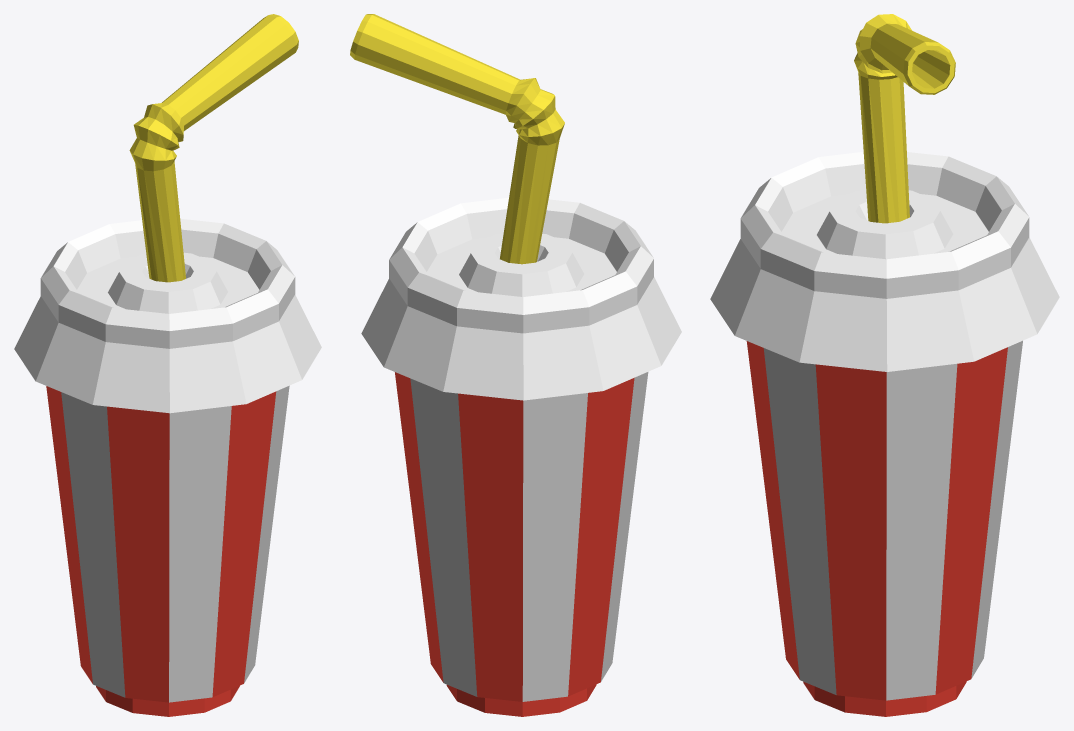
The model's file is group17020863_lev3.006.glb.
3 renders of one model, left to right at view 1: azimuth 30°, elevation 25°; view 2: azimuth 150°, elevation 25°; view 3: azimuth 270°, elevation 25°, orthographic. The views are drawn at different scales.
Visible parts, largest first — view 1: group17020863_lev3.006; view 2: group17020863_lev3.006; view 3: group17020863_lev3.006.
Boxes of the visible parts, bbox=[...] form: group17020863_lev3.006: bbox=[14, 14, 321, 716]; group17020863_lev3.006: bbox=[350, 14, 681, 716]; group17020863_lev3.006: bbox=[710, 14, 1059, 716].
Bounding box in the file's own units: 1.19 × 2.57 × 1.15.
